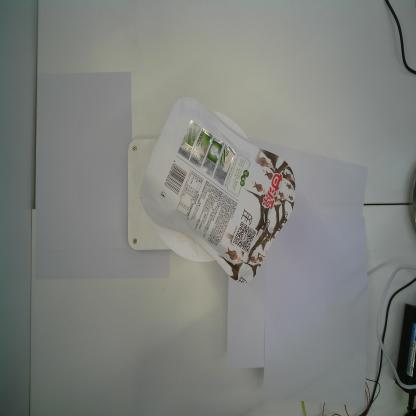Dried Fruit: (138, 96, 296, 284)
